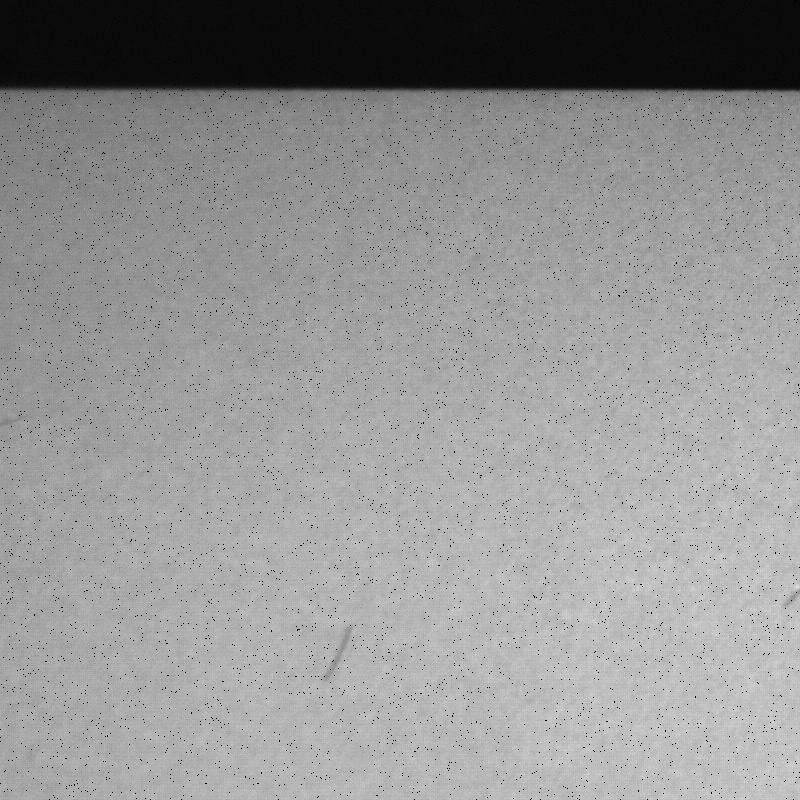defect: (318, 623, 359, 678), (781, 587, 800, 616)
